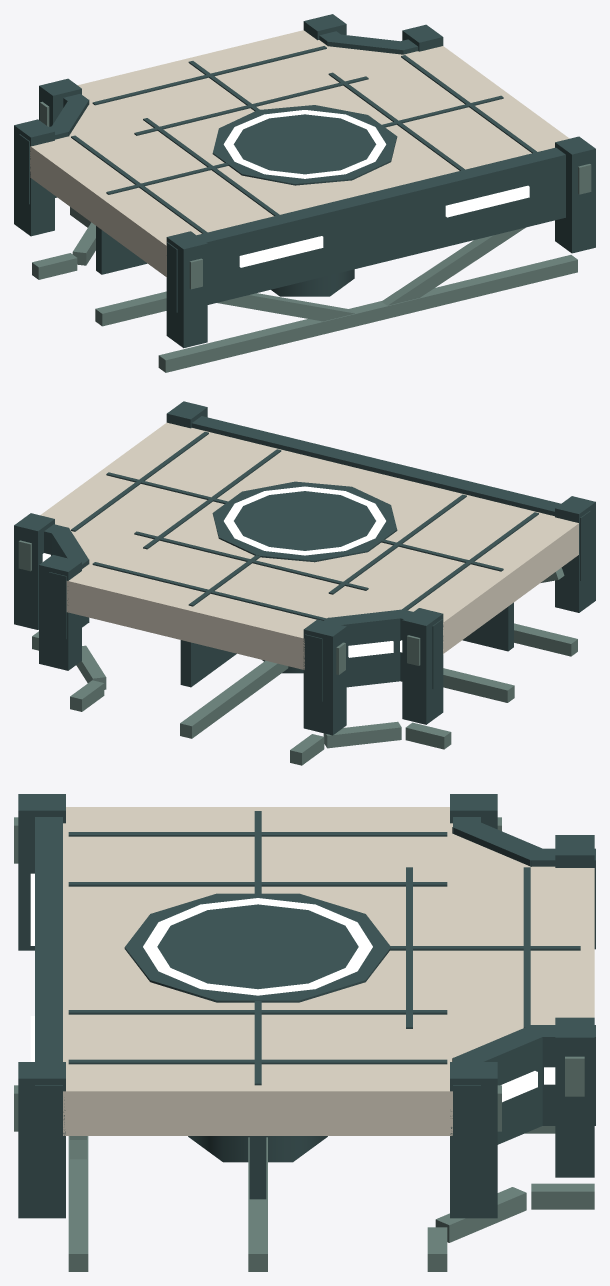
File: Junction_T_lab.glb
3 views of the same model, one above another, from view 1: azimuth 30°, elevation 25°; view 2: azimuth 150°, elevation 25°; view 3: azimuth 270°, elevation 25° (orthographic). The views are drawn at different scales.
Parts seen in each view (by area): view 1: Junction_T; view 2: Junction_T; view 3: Junction_T.
Boxes of the visible parts, x1=… form: Junction_T: x1=14, y1=14, x2=595, y2=372; Junction_T: x1=14, y1=401, x2=595, y2=765; Junction_T: x1=14, y1=794, x2=595, y2=1271.
Size of the model in its own units: 4.82 by 1.58 by 4.15.
